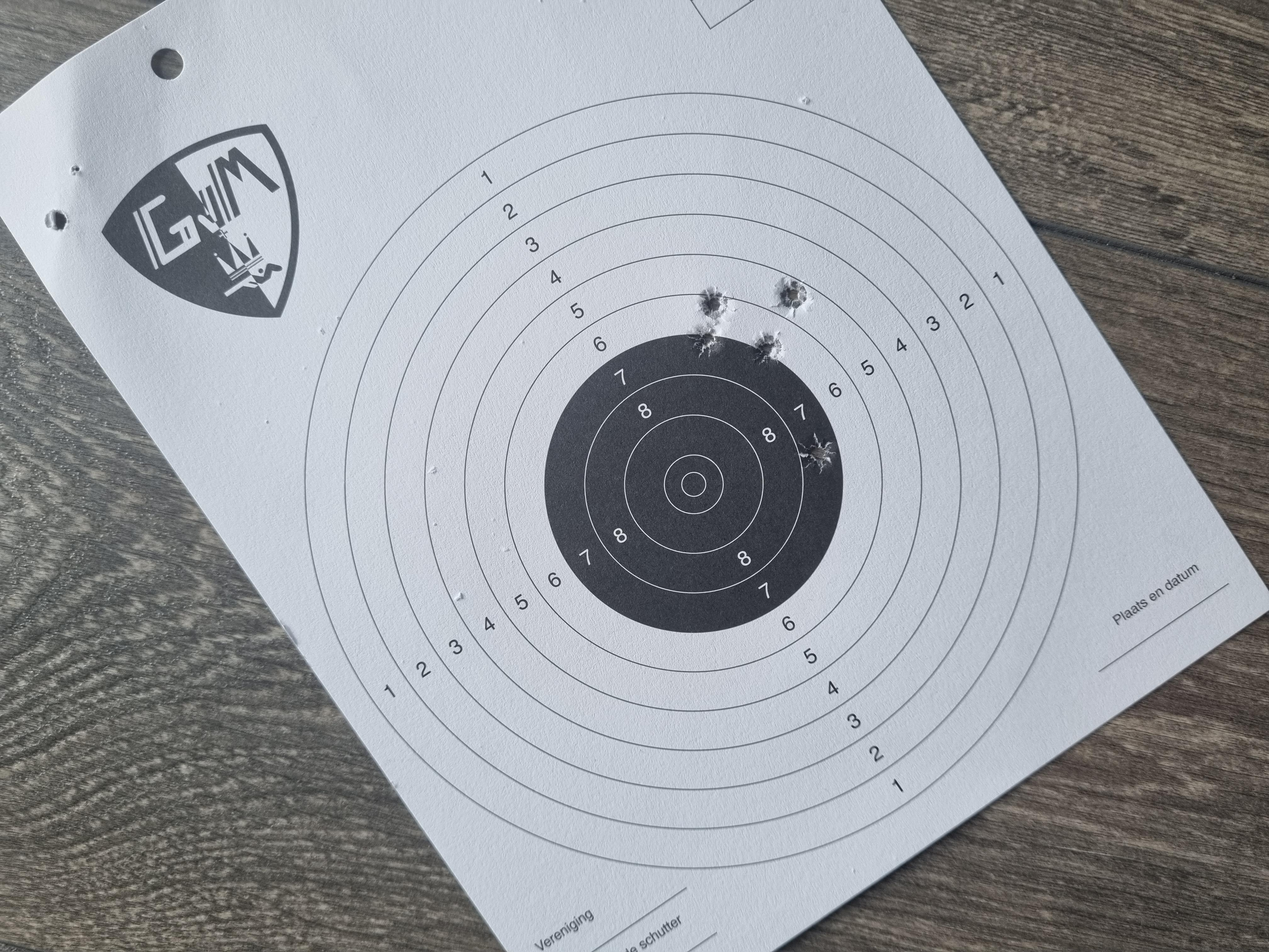hole: (845, 579, 900, 606), (640, 600, 691, 628), (790, 515, 834, 543), (837, 525, 885, 547), (782, 565, 826, 588)
